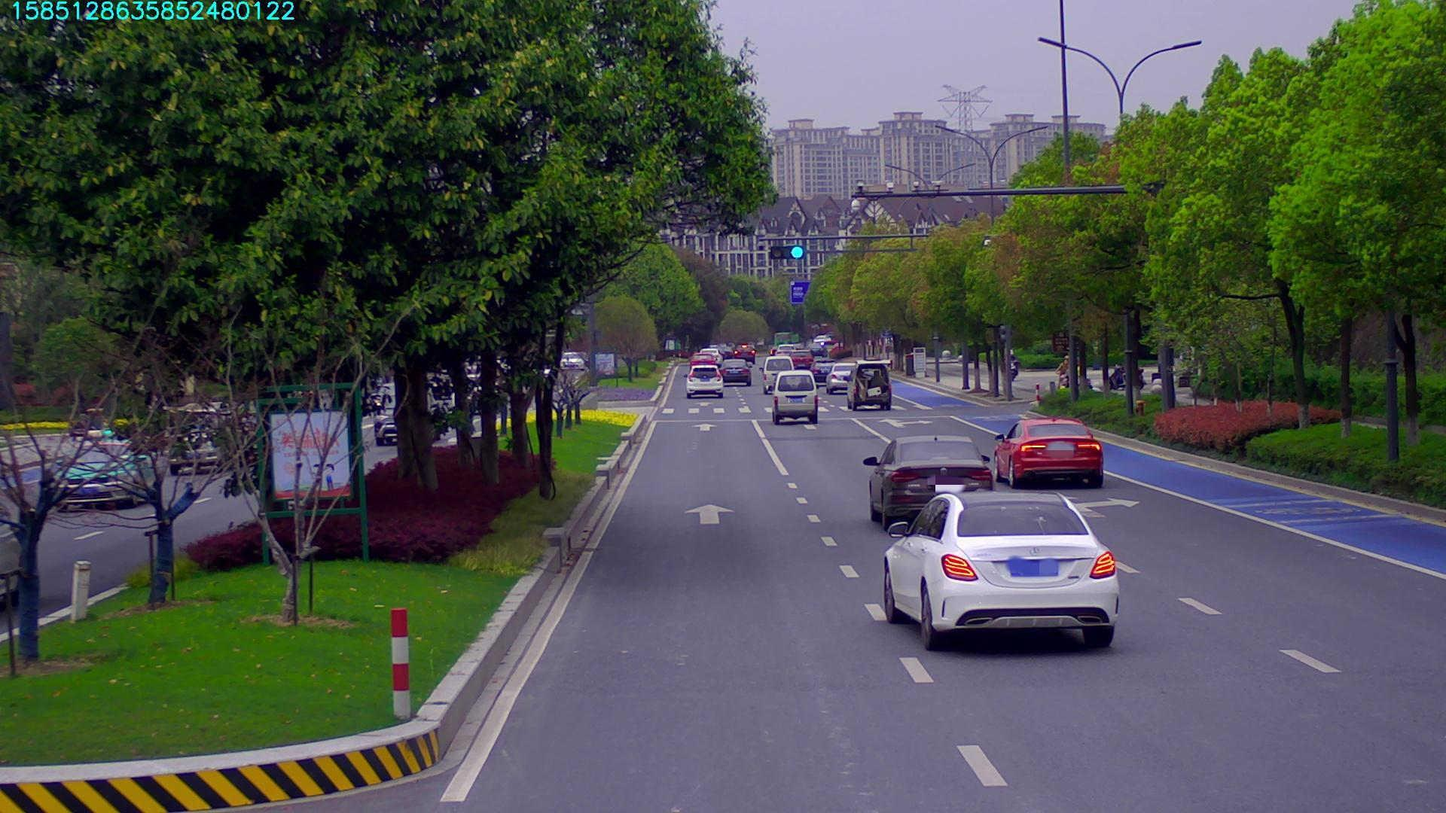green: (766, 246, 802, 261)
